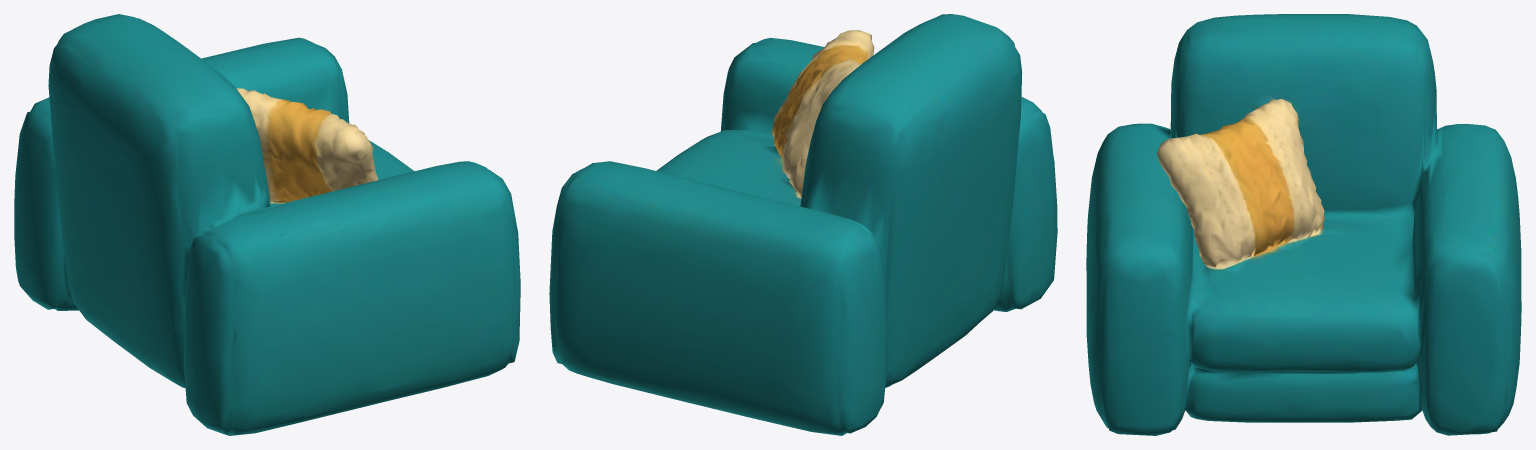
The model's file is armchair.glb.
3 views of the same model, side by side, from view 1: azimuth 30°, elevation 25°; view 2: azimuth 150°, elevation 25°; view 3: azimuth 270°, elevation 25° (orthographic). The views are drawn at different scales.
Visible parts, largest first — view 1: tripo_node_9d46f65c-6e4d-4319-8cd0-99372d4bf01a; view 2: tripo_node_9d46f65c-6e4d-4319-8cd0-99372d4bf01a; view 3: tripo_node_9d46f65c-6e4d-4319-8cd0-99372d4bf01a.
Part boxes in pixels (x1,y1,x2,y2): tripo_node_9d46f65c-6e4d-4319-8cd0-99372d4bf01a: (14, 14, 520, 435); tripo_node_9d46f65c-6e4d-4319-8cd0-99372d4bf01a: (549, 14, 1057, 435); tripo_node_9d46f65c-6e4d-4319-8cd0-99372d4bf01a: (1086, 14, 1521, 435).
Size of the model in its own units: 0.8264 by 0.7601 by 1.
1 material, 1 textured.
